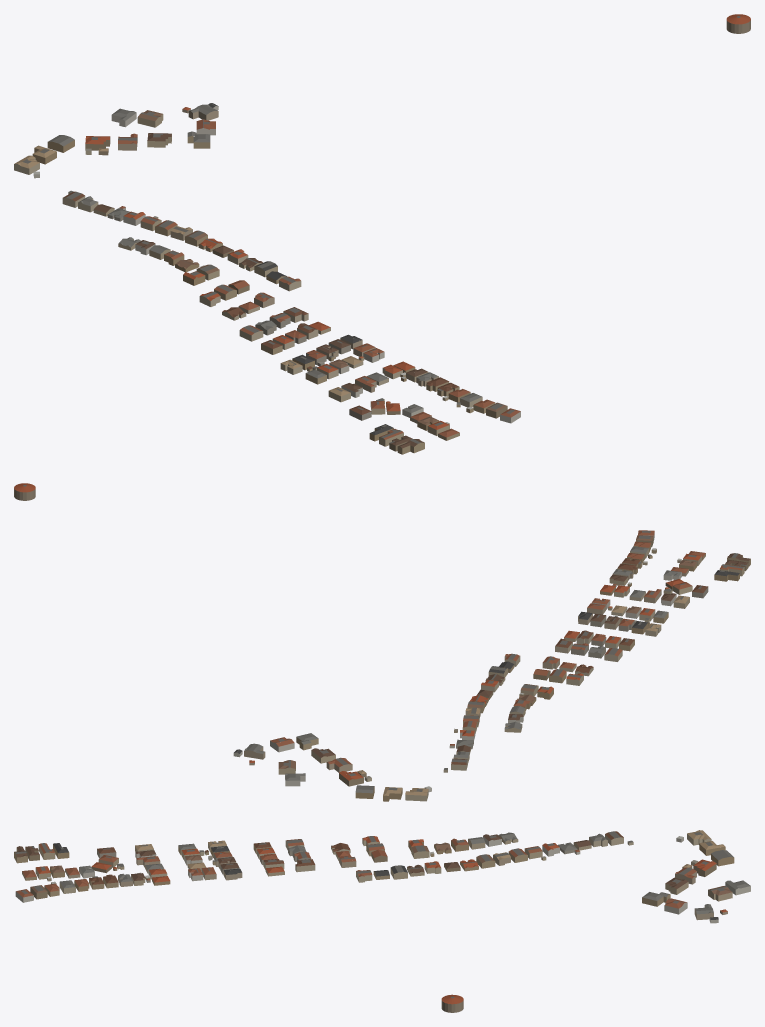
3 views of the same model, one above another, from view 1: azimuth 30°, elevation 25°; view 2: azimuth 150°, elevation 25°; view 3: azimuth 270°, elevation 25° (orthographic). The views are drawn at different scales.
Visible parts, largest first — view 1: buildings_r1_c5_lod1; view 2: buildings_r1_c5_lod1; view 3: buildings_r1_c5_lod1.
Part boxes in pixels (x1,y1,x2,y2): buildings_r1_c5_lod1: [14, 14, 750, 454]; buildings_r1_c5_lod1: [14, 483, 750, 801]; buildings_r1_c5_lod1: [14, 830, 750, 1012].
Bounding box in the file's own units: 690 × 135 × 805.
